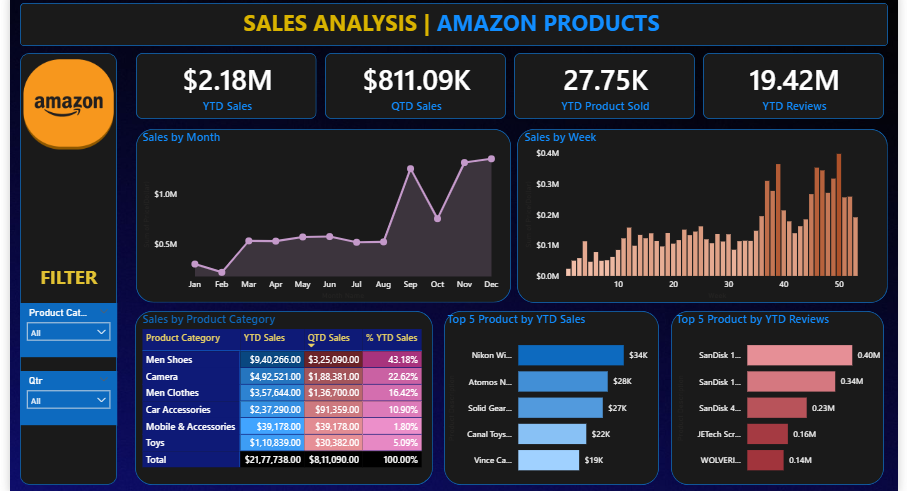

What the dashboard file says about the page in this screenshot:
{"tool":"powerbi","page":{"name":"Page 1","canvas":[1280,720],"ordinal":0},"visuals":[{"type":"shape","box":[181.4,86.4,260,95],"z":0,"group":"g1"},{"type":"shape","box":[14.4,14.4,1249.9,61.9],"z":0},{"type":"card","fields":{"Values":["Amazon_Data.YTD Sales"]},"box":[184.3,86.4,257.8,95],"z":1000,"group":"g1"},{"type":"textbox","box":[331.2,14.4,620.6,61.9],"z":1000},{"type":"shape","box":[453.6,86.4,260.6,95],"z":2000,"group":"g1"},{"type":"shape","box":[14.4,86.4,139.7,622.1],"z":2000},{"type":"shape","box":[997.9,86.4,260.6,95],"z":3000,"group":"g1"},{"type":"group","id":"g1","title":"Group 1","box":[181.4,86.4,1077.1,95],"z":3000},{"type":"shape","box":[725.7,86.4,260.6,95],"z":4000,"group":"g1"},{"type":"shape","box":[181.4,195.8,540,250],"z":4000},{"type":"card","fields":{"Values":["Amazon_Data.QTD Sales"]},"box":[456.4,86.4,257.8,95],"z":5000,"group":"g1"},{"type":"areaChart","title":"Sales by Month","fields":{"Category":["Date Table.Month Name"],"Y":["Sum(Amazon_Data.Price(Dollar))"]},"box":[185.8,195.8,528.5,250.6],"z":5000},{"type":"card","fields":{"Values":["Amazon_Data.YTD Product Sold"]},"box":[728.6,86.4,257.8,95],"z":6000,"group":"g1"},{"type":"shape","box":[730.1,195.8,534.2,250.6],"z":6000},{"type":"card","fields":{"Values":["Amazon_Data.YTD Reviews"]},"box":[1000.8,86.4,257.8,95],"z":7000,"group":"g1"},{"type":"columnChart","title":"Sales by Week","fields":{"Y":["Sum(Amazon_Data.Price(Dollar))"],"Category":["Date Table.Week"]},"box":[735.8,195.8,509.8,250.6],"z":7000},{"type":"shape","box":[180,457.9,429.1,250.6],"z":8000},{"type":"pivotTable","title":"Sales by Product Category","fields":{"Rows":["Amazon_Data.Product Category"],"Values":["Amazon_Data.YTD Sales","Amazon_Data.QTD Sales","Divide(Amazon_Data.YTD Sales, ScopedEval(Amazon_Data.YTD Sales, []))"]},"box":[185.8,457.9,423.4,250.6],"z":9000},{"type":"shape","box":[625,457.9,309.6,250.6],"z":10000},{"type":"shape","box":[951.8,457.9,306.7,250.6],"z":11000},{"type":"clusteredBarChart","title":"Top 5 Product by YTD Sales","fields":{"Y":["Amazon_Data.YTD Sales"],"Category":["Amazon_Data.Product Description"]},"box":[625,457.9,309.6,250.6],"z":12000},{"type":"clusteredBarChart","title":"Top 5 Product by YTD Reviews","fields":{"Y":["Amazon_Data.YTD Reviews"],"Category":["Amazon_Data.Product Description"]},"box":[954.7,457.9,309.6,250.6],"z":13000},{"type":"slicer","fields":{"Values":["Amazon_Data.Product Category"]},"box":[14.4,446.4,139.7,77.8],"z":14000},{"type":"slicer","fields":{"Values":["Date Table.Qtr"]},"box":[14.4,544.3,139.7,77.8],"z":15000},{"type":"image","box":[14.4,86.4,139.7,148.3],"z":16000},{"type":"textbox","box":[25.9,384.5,116.6,47.5],"z":16001}]}

Visuals, with their boxes on the page's 1280x720 design canvas (x1, y1, x2, y2). These are canvas units, not pixel positions in the 907x491 screenshot, which may show the page scaled, cropped or inside an application window:
shape: [x1=181, y1=86, x2=441, y2=181]
shape: [x1=14, y1=14, x2=1264, y2=76]
card - Amazon_Data.YTD Sales: [x1=184, y1=86, x2=442, y2=181]
textbox: [x1=331, y1=14, x2=952, y2=76]
shape: [x1=454, y1=86, x2=714, y2=181]
shape: [x1=14, y1=86, x2=154, y2=708]
shape: [x1=998, y1=86, x2=1258, y2=181]
"Group 1" group: [x1=181, y1=86, x2=1258, y2=181]
shape: [x1=726, y1=86, x2=986, y2=181]
shape: [x1=181, y1=196, x2=721, y2=446]
card - Amazon_Data.QTD Sales: [x1=456, y1=86, x2=714, y2=181]
"Sales by Month" areaChart: [x1=186, y1=196, x2=714, y2=446]
card - Amazon_Data.YTD Product Sold: [x1=729, y1=86, x2=986, y2=181]
shape: [x1=730, y1=196, x2=1264, y2=446]
card - Amazon_Data.YTD Reviews: [x1=1001, y1=86, x2=1259, y2=181]
"Sales by Week" columnChart: [x1=736, y1=196, x2=1246, y2=446]
shape: [x1=180, y1=458, x2=609, y2=708]
"Sales by Product Category" pivotTable: [x1=186, y1=458, x2=609, y2=708]
shape: [x1=625, y1=458, x2=935, y2=708]
shape: [x1=952, y1=458, x2=1258, y2=708]
"Top 5 Product by YTD Sales" clusteredBarChart: [x1=625, y1=458, x2=935, y2=708]
"Top 5 Product by YTD Reviews" clusteredBarChart: [x1=955, y1=458, x2=1264, y2=708]
slicer - Amazon_Data.Product Category: [x1=14, y1=446, x2=154, y2=524]
slicer - Date Table.Qtr: [x1=14, y1=544, x2=154, y2=622]
image: [x1=14, y1=86, x2=154, y2=235]
textbox: [x1=26, y1=384, x2=142, y2=432]
